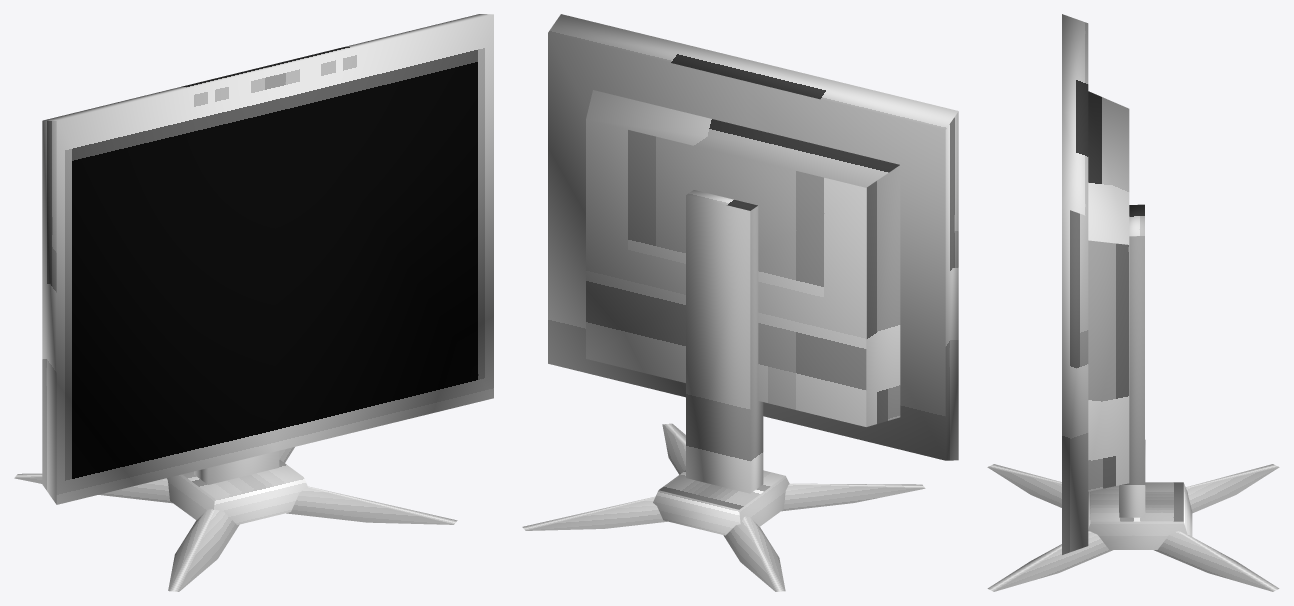
3 views of the same model, side by side, from view 1: azimuth 30°, elevation 25°; view 2: azimuth 150°, elevation 25°; view 3: azimuth 270°, elevation 25° (orthographic). The views are drawn at different scales.
Visible parts, largest first — view 1: 3498IMEL01_15; view 2: 3498IMEL01_15; view 3: 3498IMEL01_15.
Boxes of the visible parts, bbox=[...] form: 3498IMEL01_15: bbox=[14, 14, 493, 591]; 3498IMEL01_15: bbox=[522, 14, 958, 591]; 3498IMEL01_15: bbox=[987, 14, 1279, 591].
Size of the model in its own units: 0.8501 by 0.8557 by 0.5435.
Materials: 4 (4 with a texture image).
